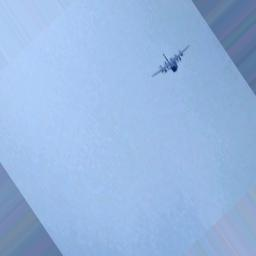Airplane: (149, 43, 190, 78)
